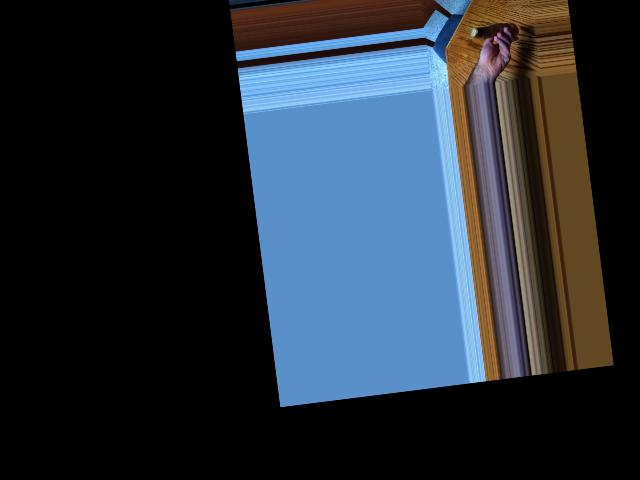sweet_potato: (468, 20, 520, 46)
